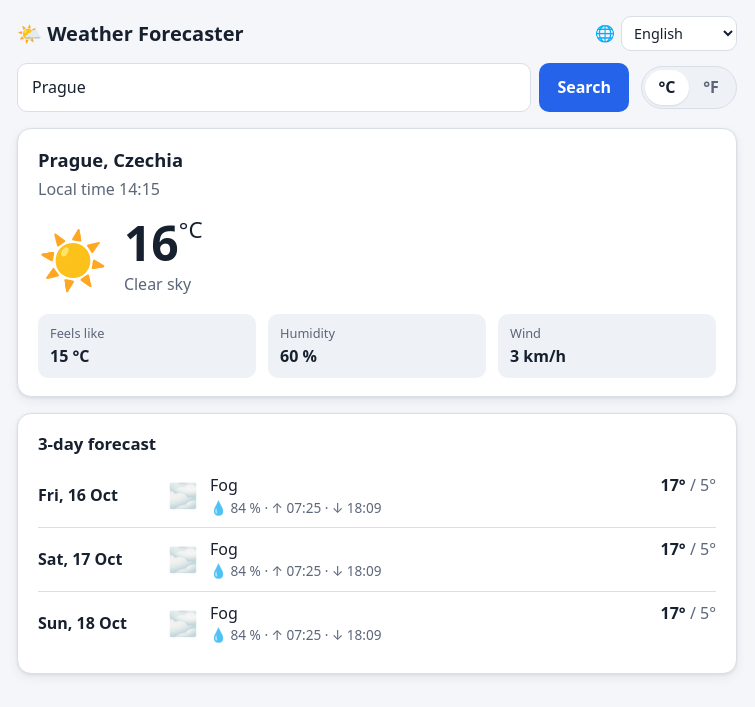
Test: SearchPage › switches the language, reloads in it and remembers the choice
Step 1. Select "Українська" in the dropdown labelled "🌐" → (679, 34), box [621,16,737,51]
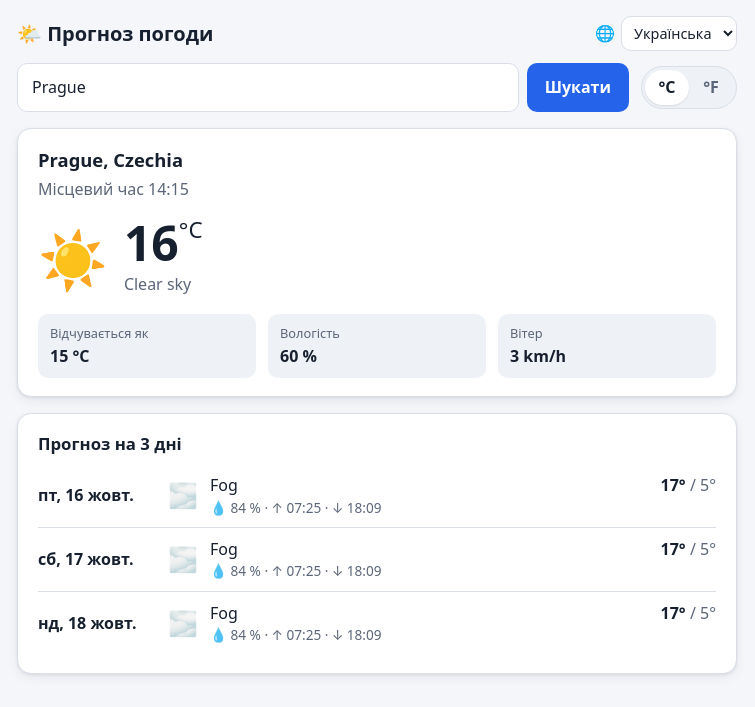
expect the text "Відчувається як" is shown: met, box [50,324,149,342]
expect the heading with id "forecast-title" reads "Прогноз на 3 дні": met, box [38,432,182,455]
